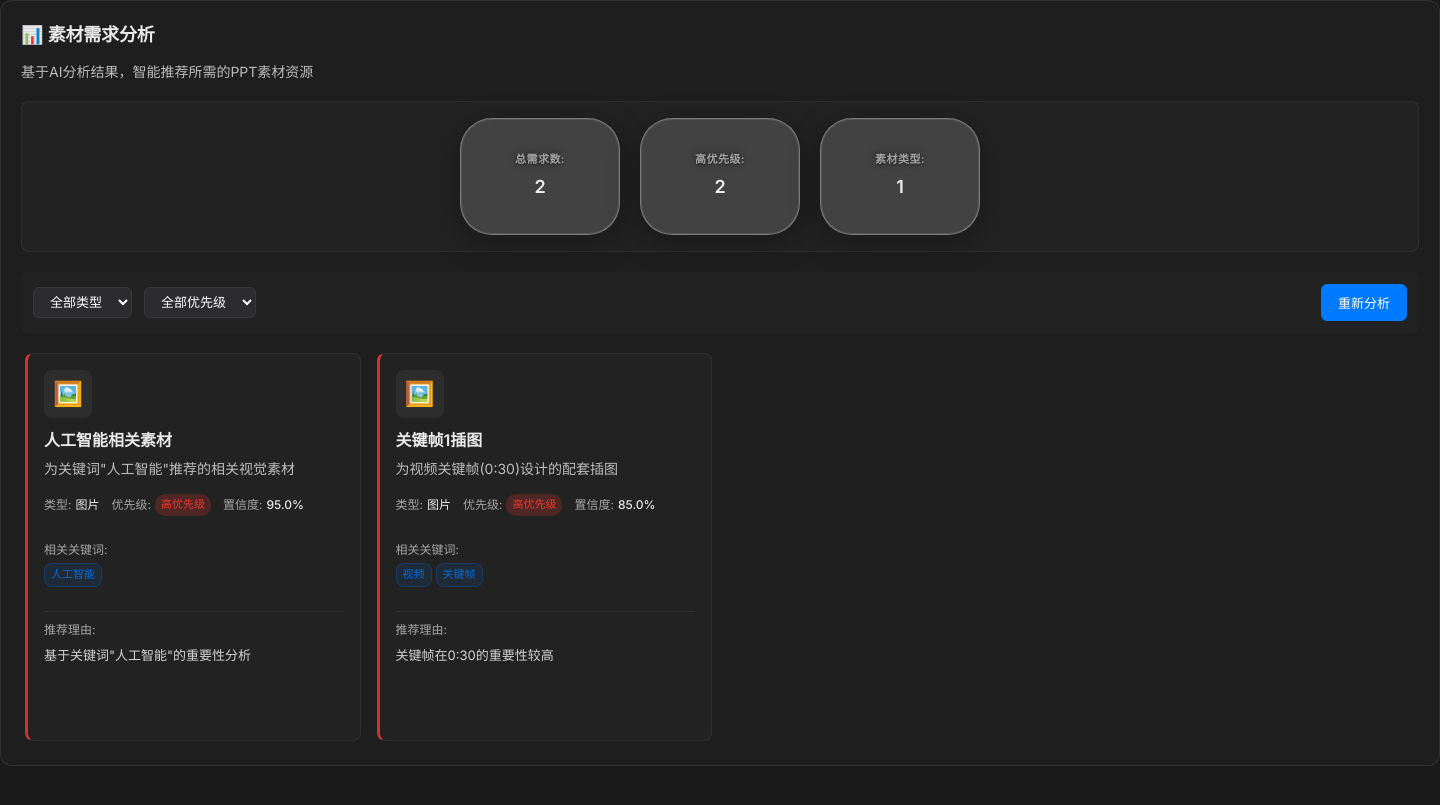
Test: MaterialRequirementAnalyzer.vue › 需求选择 › 应该能够选择需求
This screenshot has width=1440, height=805.
Click the button with class "requirement-card" that starts with "人工智能相关素材": coordinates (68, 394) 25,353 -> 360,741
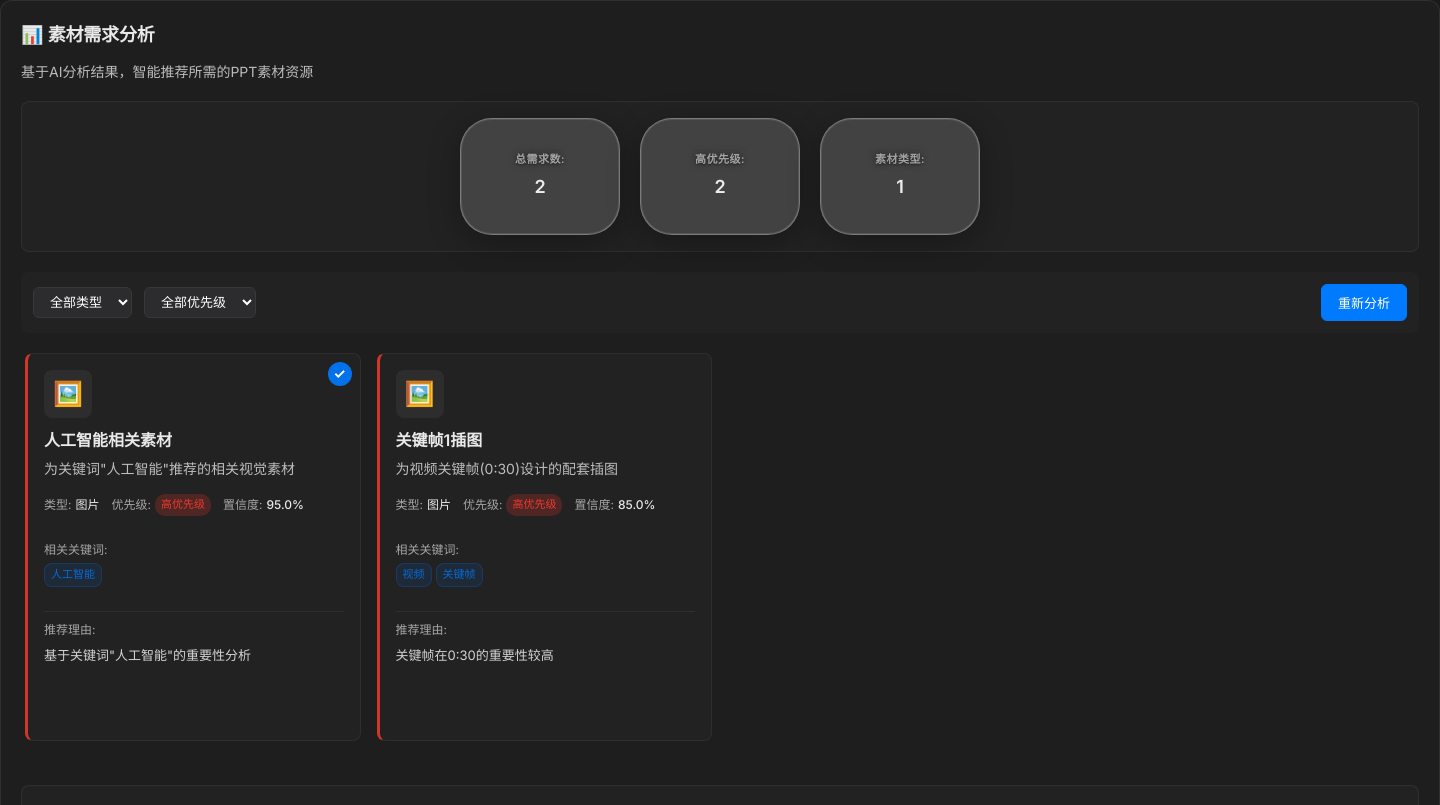
Expected: the text "✓" is shown, 328,362 -> 352,386
